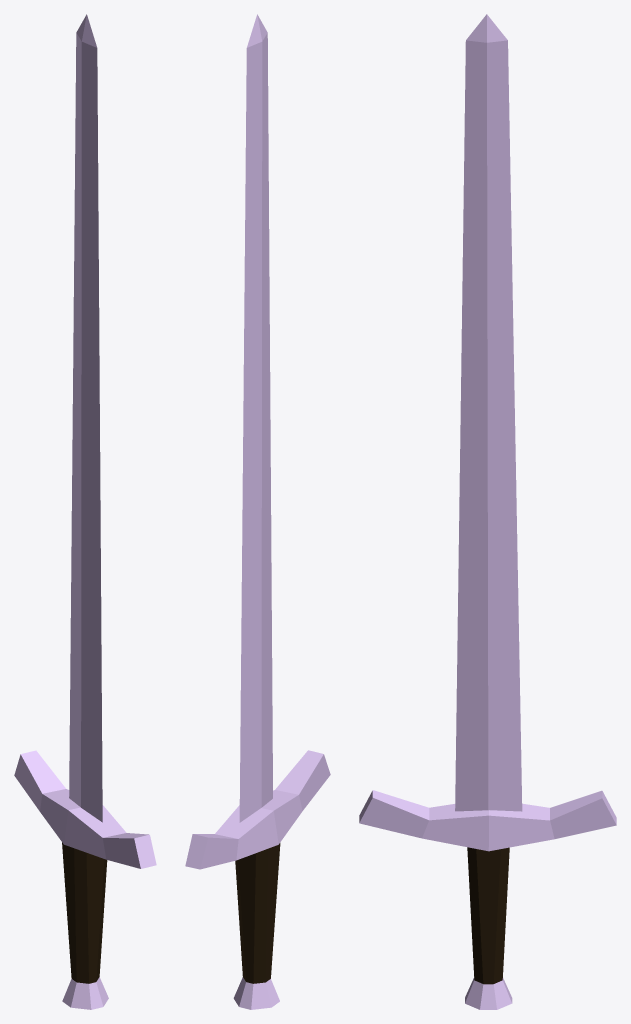
The model's file is sword.fbx.
The picture shows the model from 3 angles, left to right: view 1: azimuth 30°, elevation 25°; view 2: azimuth 150°, elevation 25°; view 3: azimuth 270°, elevation 25°; orthographic projection.
Visible parts, largest first — view 1: Cube, Куб; view 2: Cube, Куб; view 3: Cube, Куб.
Boxes of the visible parts, x1,y1,x2,y2 form: Cube: [69, 14, 102, 822]; Куб: [14, 750, 156, 1009]; Cube: [239, 14, 272, 822]; Куб: [185, 750, 330, 1009]; Cube: [455, 14, 522, 811]; Куб: [359, 790, 616, 1009].
Size of the model in its own units: 53.83 by 1167 by 276.
